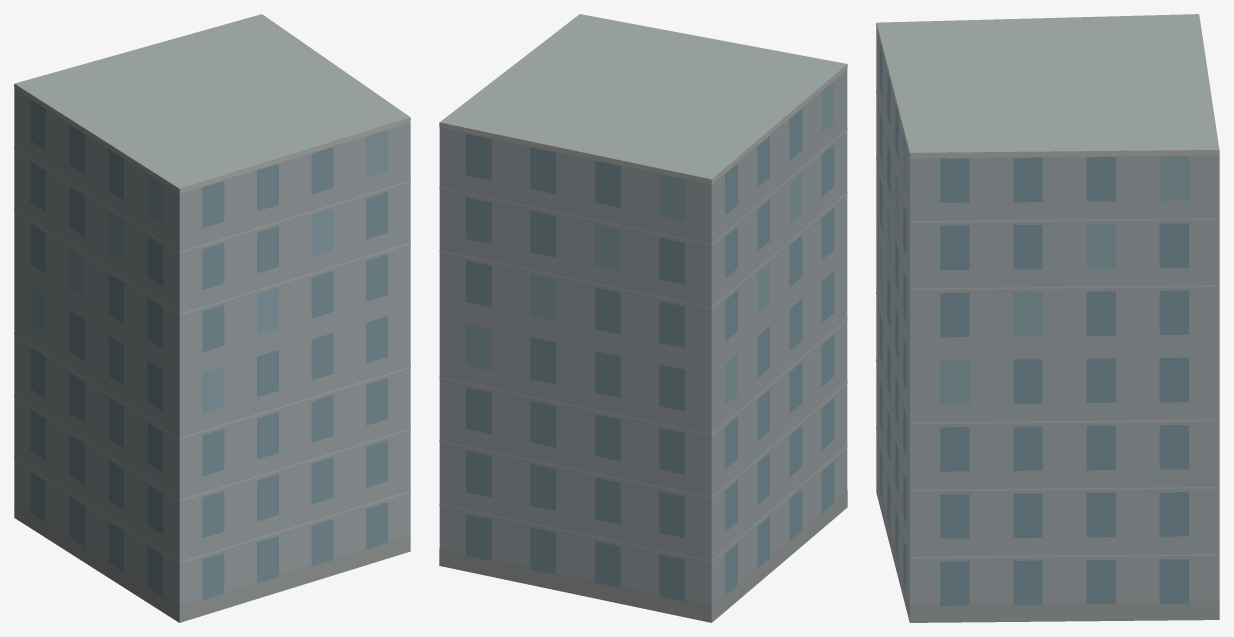
Rendered from survey-upis-32744102.glb.
3 views of the same model, side by side, from view 1: azimuth 30°, elevation 25°; view 2: azimuth 150°, elevation 25°; view 3: azimuth 270°, elevation 25° (orthographic). The views are drawn at different scales.
Parts seen in each view (by area): view 1: survey-upis-32744102.tmp; view 2: survey-upis-32744102.tmp; view 3: survey-upis-32744102.tmp.
Boxes of the visible parts, x1=… form: survey-upis-32744102.tmp: x1=14, y1=14, x2=410, y2=622; survey-upis-32744102.tmp: x1=439, y1=14, x2=847, y2=622; survey-upis-32744102.tmp: x1=876, y1=14, x2=1219, y2=622.
Bounding box in the file's own units: 13.33 × 21 × 13.92.
